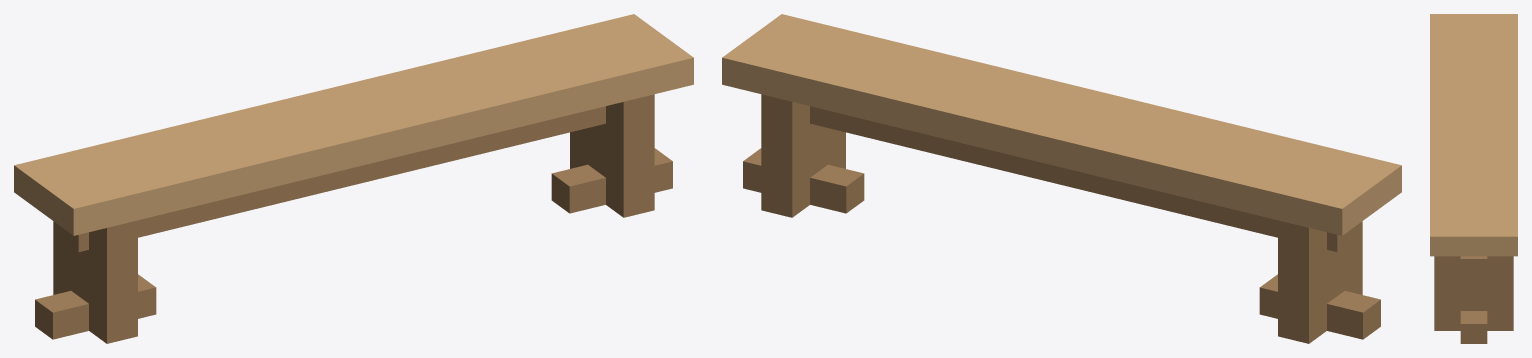
File: spectator-bench.glb
The picture shows the model from 3 angles, left to right: view 1: azimuth 30°, elevation 25°; view 2: azimuth 150°, elevation 25°; view 3: azimuth 270°, elevation 25°; orthographic projection. The views are drawn at different scales.
Visible parts, largest first — view 1: spectator-bench; view 2: spectator-bench; view 3: spectator-bench.
Part boxes in pixels (x1,y1,x2,y2): spectator-bench: (14,14,693,343); spectator-bench: (722,14,1401,343); spectator-bench: (1430,14,1517,343).
Bounding box in the file's own units: 2.4 × 0.54 × 0.3999.
